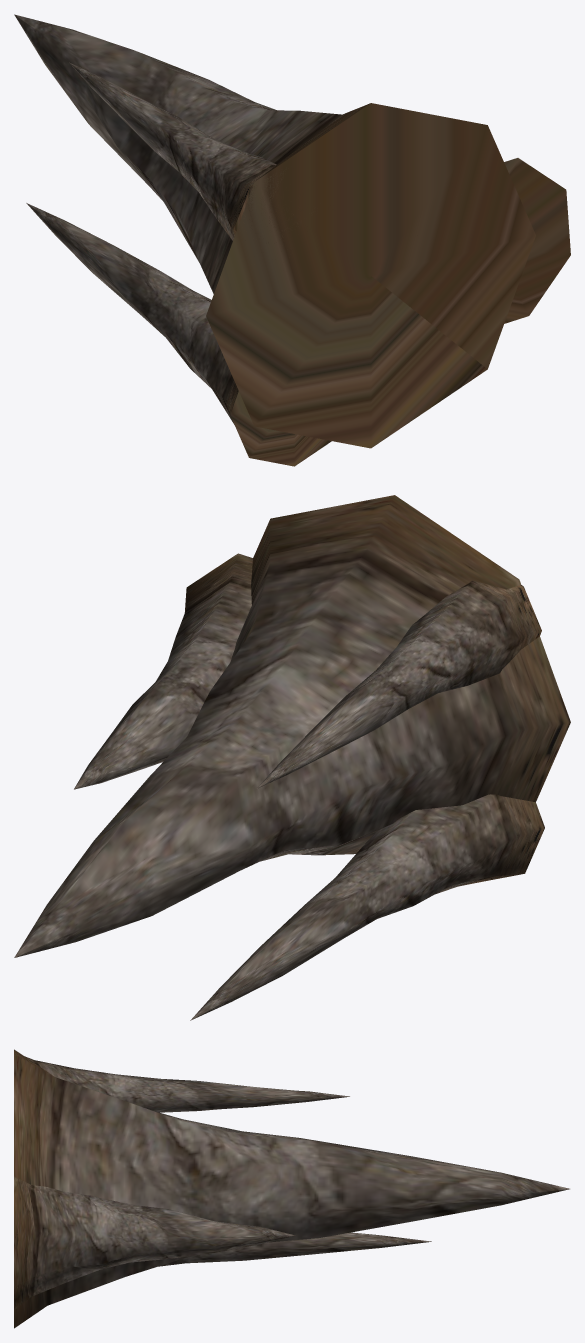
The model's file is indan_2.FBX.
3 renders of one model, top to bottom at view 1: azimuth 30°, elevation 25°; view 2: azimuth 150°, elevation 25°; view 3: azimuth 270°, elevation 25°, orthographic. The views are drawn at different scales.
Parts seen in each view (by area): view 1: Box003; view 2: Box003; view 3: Box003.
Boxes of the visible parts, box(x1,y1,x2,y2) form: Box003: box(14, 14, 570, 466); Box003: box(14, 495, 570, 1020); Box003: box(14, 1049, 569, 1328).
Size of the model in its own units: 0.06 by 0.0542 by 0.1016.
